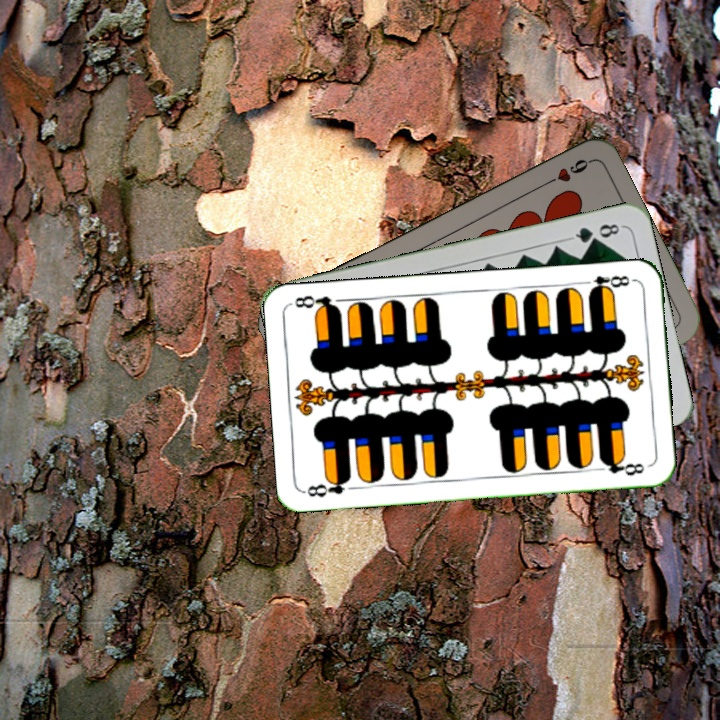E8: (301, 473, 354, 500), (578, 271, 632, 297)
G8: (567, 219, 625, 246)
H9: (538, 154, 593, 189)
